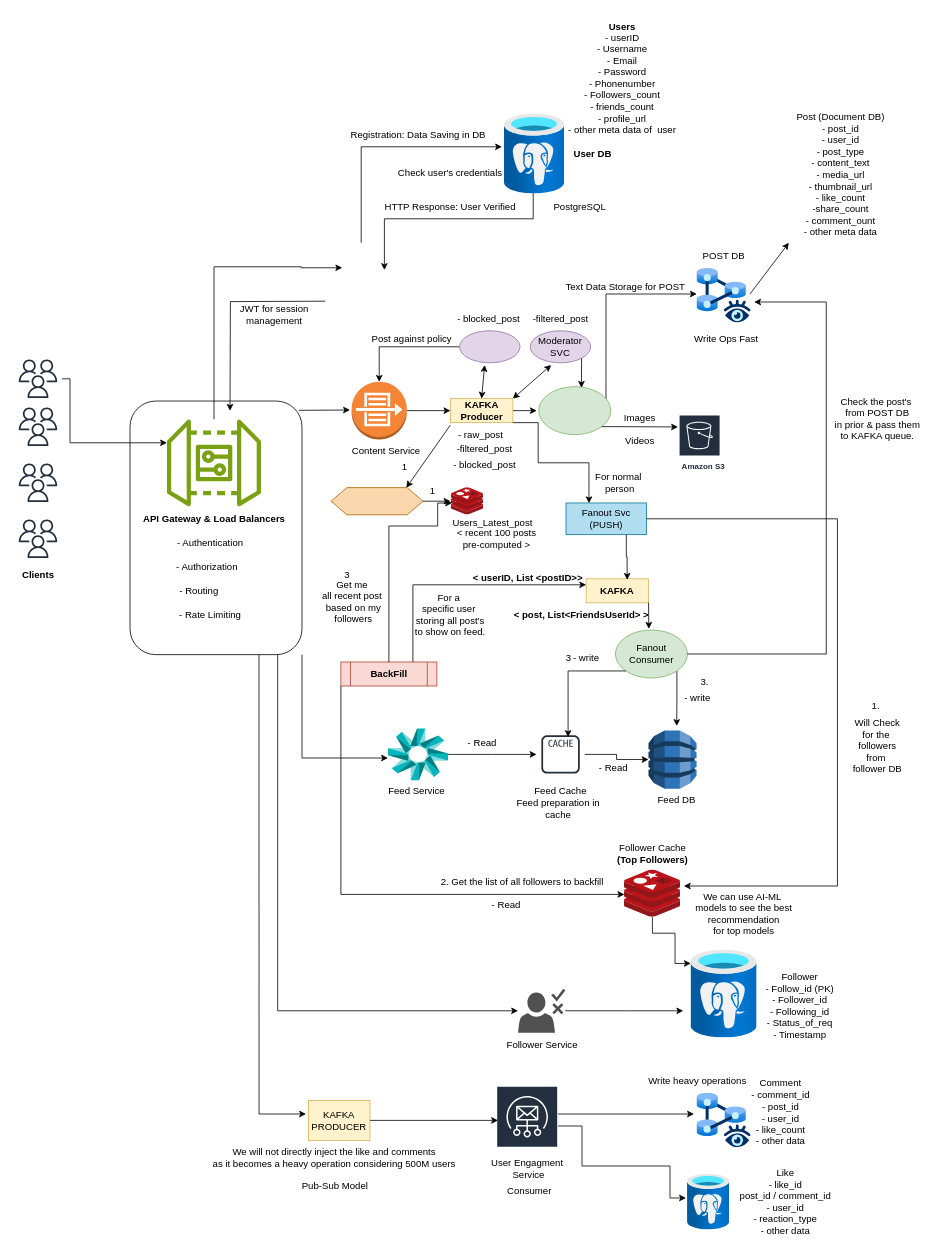
The diagram is 943 pixels wide and 1255 high, and some of its shapes have lost their labels. The box of each missing label's shape, as (x1, y1, x2, y2) in pixels:
Notification SVC: (459, 330, 520, 363)
Post Consumer SVC: (538, 386, 611, 435)
Post Materializer: (330, 487, 423, 515)
